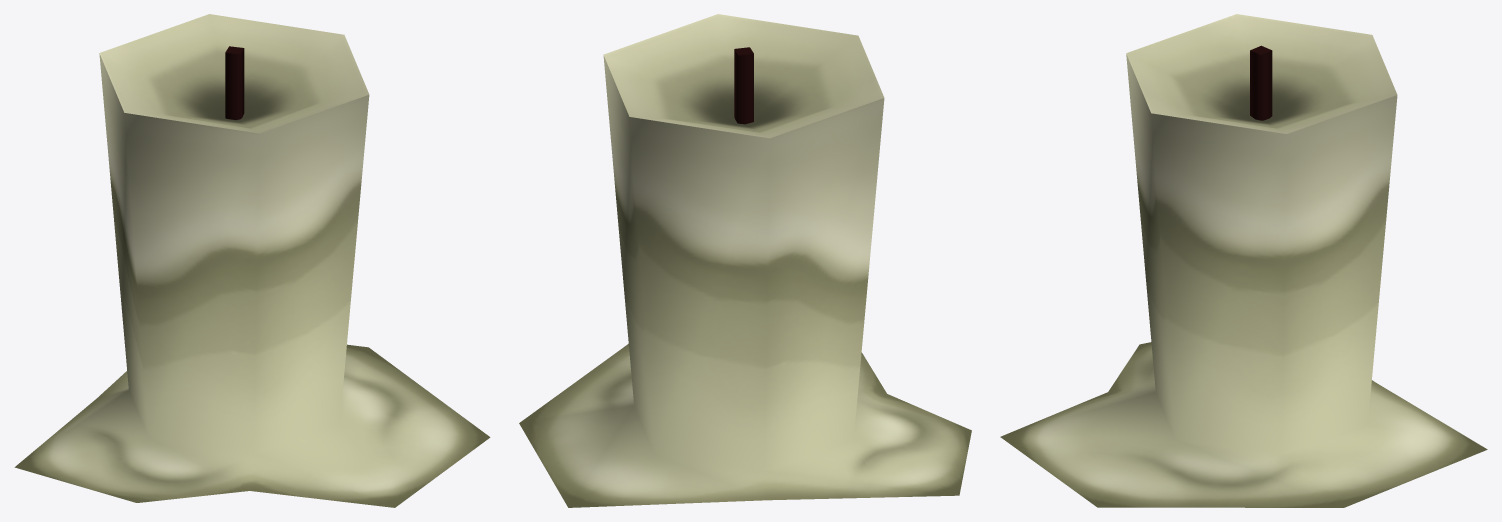
Rendered from Dg_01_candle_004.FBX.
3 renders of one model, left to right at view 1: azimuth 30°, elevation 25°; view 2: azimuth 150°, elevation 25°; view 3: azimuth 270°, elevation 25°, orthographic. The views are drawn at different scales.
Parts seen in each view (by area): view 1: Dg_01_candle_004; view 2: Dg_01_candle_004; view 3: Dg_01_candle_004.
Boxes of the visible parts, bbox=[...] form: Dg_01_candle_004: bbox=[14, 14, 490, 507]; Dg_01_candle_004: bbox=[519, 14, 971, 507]; Dg_01_candle_004: bbox=[1000, 14, 1487, 507].
Size of the model in its own units: 0.505 by 0.4591 by 0.5462.
